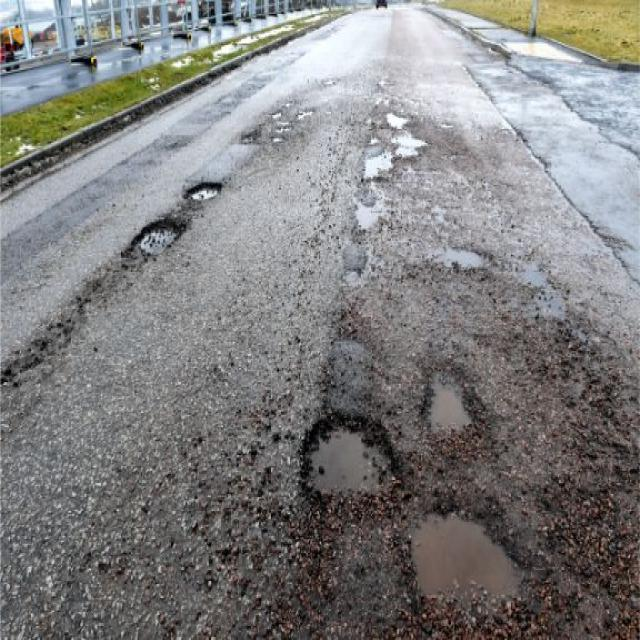pothole: (400, 495, 531, 623), (292, 406, 403, 506), (414, 357, 478, 441), (122, 208, 187, 260), (180, 173, 223, 200)
